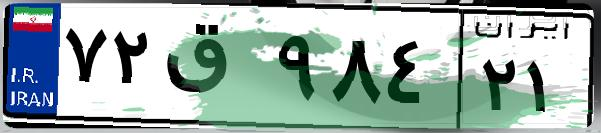1: (525, 38, 570, 115)
2: (475, 38, 525, 113), (110, 28, 158, 98)
4: (385, 28, 445, 110)
7: (57, 26, 110, 100)
8: (330, 28, 385, 110)
9: (270, 28, 330, 110)
ق: (158, 20, 270, 120)
